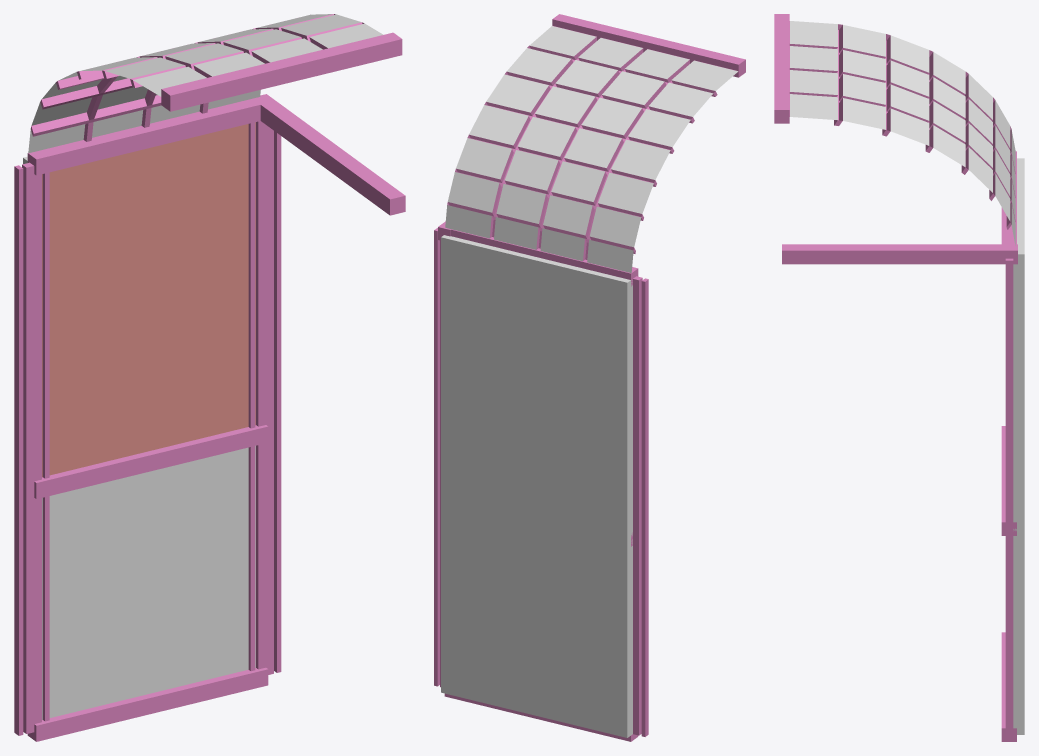
The model's file is Wall test.fbx.
3 views of the same model, side by side, from view 1: azimuth 30°, elevation 25°; view 2: azimuth 150°, elevation 25°; view 3: azimuth 270°, elevation 25° (orthographic). The views are drawn at different scales.
Parts seen in each view (by area): view 1: Cube.003, Cube, Cube.004, Cube.005, Cube.001, Cube.002, Cube.006, Cube.007, Cube.008; view 2: Cube.003, Cube.005, Cube, Cube.004, Cube.001, Cube.007, Cube.002, Cube.006; view 3: Cube.005, Cube.008, Cube.003, Cube.004, Cube, Cube.001, Cube.007, Cube.002, Cube.006.
Boxes of the visible parts, box(x1,y1,x2,y2) form: Cube.003: box(23, 122, 255, 477); Cube: box(42, 445, 255, 719); Cube.004: box(14, 121, 281, 492); Cube.005: box(28, 14, 383, 153); Cube.001: box(14, 428, 281, 735); Cube.002: box(27, 98, 268, 490); Cube.006: box(27, 434, 268, 741); Cube.007: box(161, 32, 402, 111); Cube.008: box(253, 94, 405, 215); Cube.003: box(441, 235, 632, 542); Cube.005: box(445, 26, 738, 272); Cube: box(441, 497, 632, 737); Cube.004: box(434, 228, 648, 541); Cube.001: box(434, 490, 648, 736); Cube.007: box(552, 14, 745, 77); Cube.002: box(445, 228, 638, 539); Cube.006: box(444, 539, 638, 741); Cube.005: box(789, 21, 1015, 245); Cube.008: box(782, 244, 1017, 264); Cube.003: box(1013, 158, 1024, 528); Cube.004: box(1005, 257, 1013, 535); Cube: box(1013, 529, 1024, 734); Cube.001: box(1005, 535, 1013, 741); Cube.007: box(774, 14, 789, 123); Cube.002: box(1001, 151, 1016, 528); Cube.006: box(1001, 529, 1016, 741).
Bounding box in the file's own units: 3.4 × 9.2 × 3.3.
